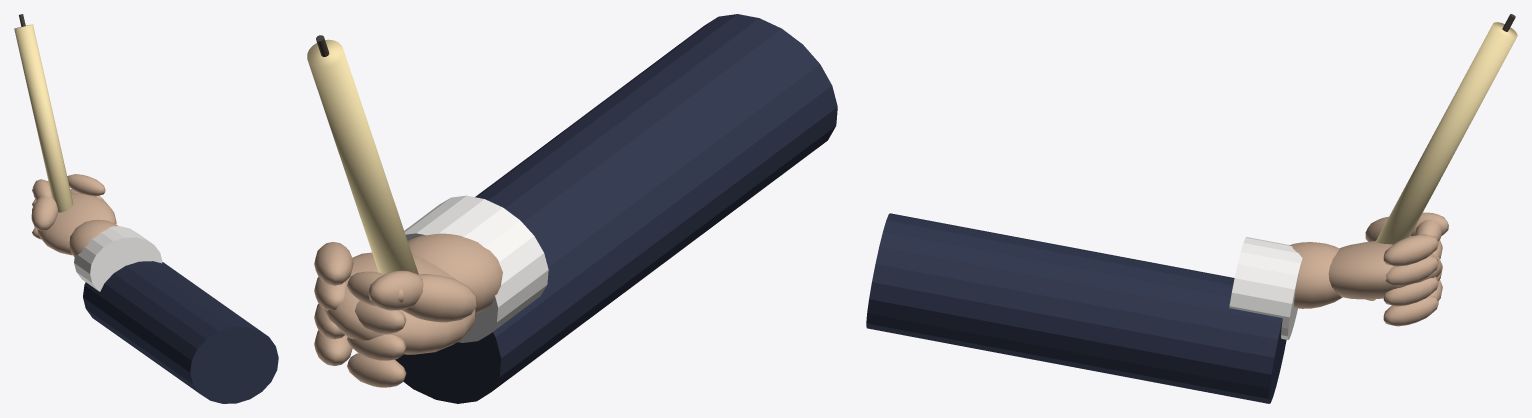
The model's file is fpv_hand_shamash.glb.
3 views of the same model, side by side, from view 1: azimuth 30°, elevation 25°; view 2: azimuth 150°, elevation 25°; view 3: azimuth 270°, elevation 25° (orthographic). The views are drawn at different scales.
Visible parts, largest first — view 1: Cylinder, Cylinder.002, Cylinder.001, FPV_Palm, FPV_Wrist, FPV_ThumbA, FPV_FingerA_0, FPV_ThumbB; view 2: Cylinder, Cylinder.002, Cylinder.001, FPV_Palm, FPV_Wrist, FPV_ThumbA, FPV_ThumbB, FPV_FingerB_3, FPV_FingerA_0, FPV_FingerB_1, FPV_FingerB_2, FPV_FingerA_3 (+3 smaller); view 3: Cylinder, Cylinder.002, Cylinder.001, FPV_Palm, FPV_Wrist, FPV_FingerA_0, FPV_FingerA_3, FPV_FingerA_1, FPV_FingerA_2.
Part boxes in pixels (x1,y1,x2,y2): Cylinder: (83,261,278,403); Cylinder.002: (14,24,73,212); Cylinder.001: (74,226,162,291); FPV_Palm: (37,193,116,255); FPV_Wrist: (69,219,117,256); FPV_ThumbA: (31,196,58,230); FPV_FingerA_0: (67,174,105,196); FPV_ThumbB: (33,179,51,200); Cylinder: (395,14,837,403); Cylinder.002: (307,39,418,274); Cylinder.001: (404,195,548,342); FPV_Palm: (323,252,475,354); FPV_Wrist: (407,233,502,313); FPV_ThumbA: (401,274,477,322); FPV_ThumbB: (368,270,423,310); FPV_FingerB_3: (347,353,406,387); FPV_FingerA_0: (314,242,353,285); FPV_FingerB_1: (355,301,406,333); FPV_FingerB_2: (347,334,406,360); FPV_FingerA_3: (314,330,352,365); Cylinder: (866,213,1286,403); Cylinder.002: (1366,22,1517,300); Cylinder.001: (1229,237,1302,339); FPV_Palm: (1328,241,1442,299); FPV_Wrist: (1289,242,1342,308); FPV_FingerA_0: (1383,234,1438,266); FPV_FingerA_3: (1383,295,1438,326); FPV_FingerA_1: (1385,255,1438,286); FPV_FingerA_2: (1383,276,1438,306).
Size of the model in its own units: 0.1301 by 0.2754 by 0.4444.
